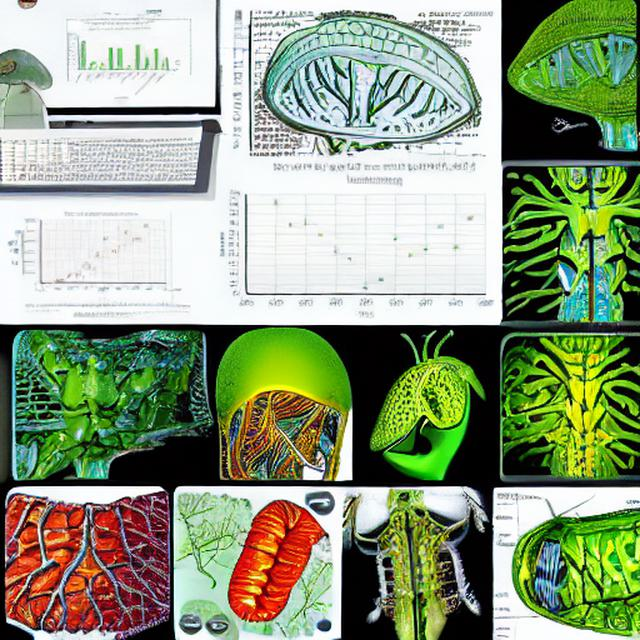Graph: (215, 159, 496, 323), (20, 209, 170, 297), (64, 20, 172, 102)
